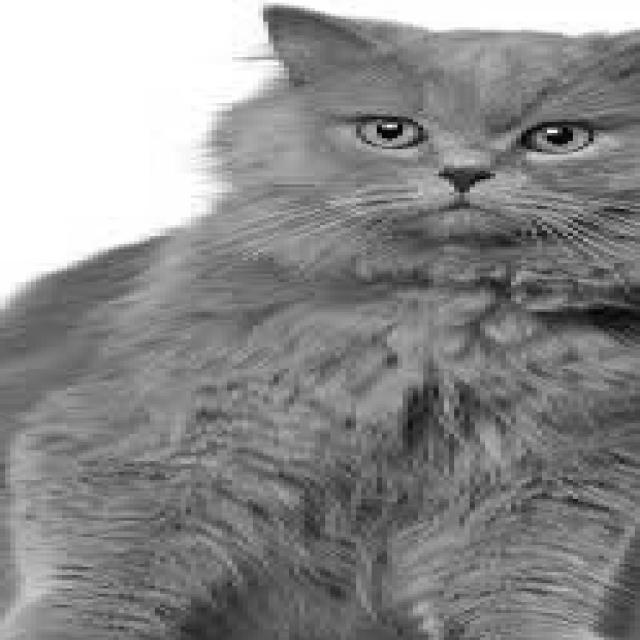british: (170, 0, 639, 306)
